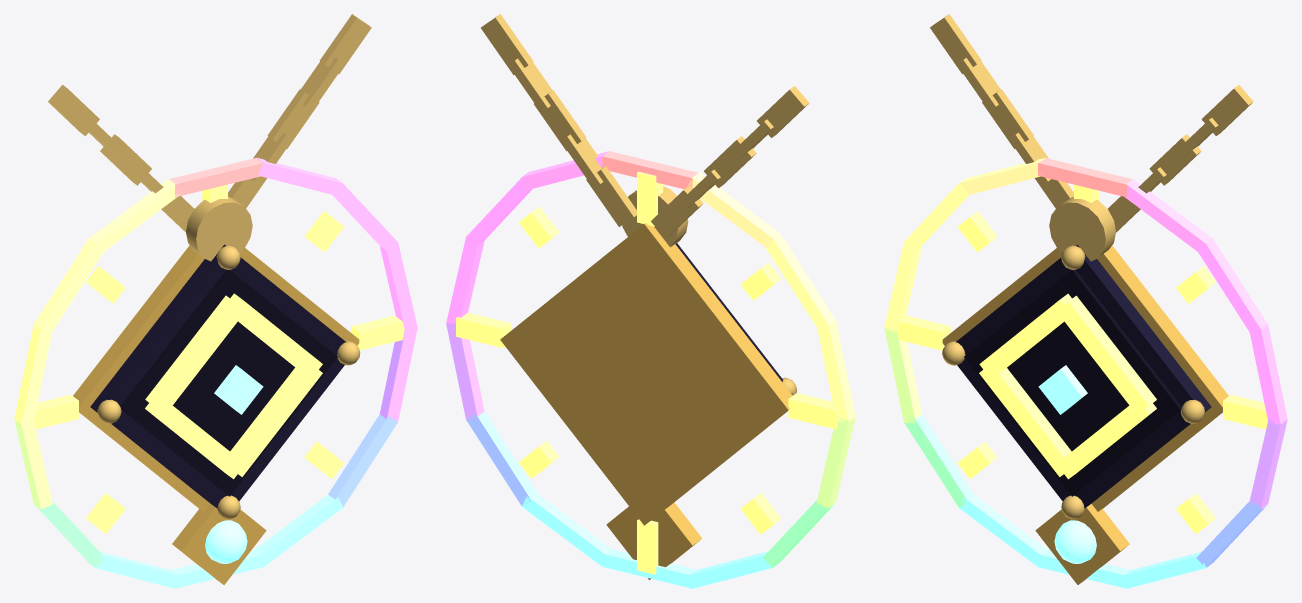
3 renders of one model, left to right at view 1: azimuth 30°, elevation 25°; view 2: azimuth 150°, elevation 25°; view 3: azimuth 330°, elevation 25°, orthographic.
Parts seen in each view (by area): view 1: eye-of-the-sovereign; view 2: eye-of-the-sovereign; view 3: eye-of-the-sovereign.
Boxes of the visible parts, x1=… form: eye-of-the-sovereign: x1=14, y1=14, x2=417, y2=588; eye-of-the-sovereign: x1=446, y1=14, x2=855, y2=588; eye-of-the-sovereign: x1=884, y1=14, x2=1287, y2=588.
Bounding box in the file's own units: 0.2897 × 0.3658 × 0.0472.
